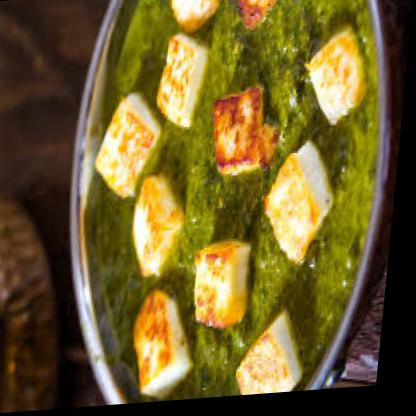palak_paneer: (80, 0, 398, 410)
